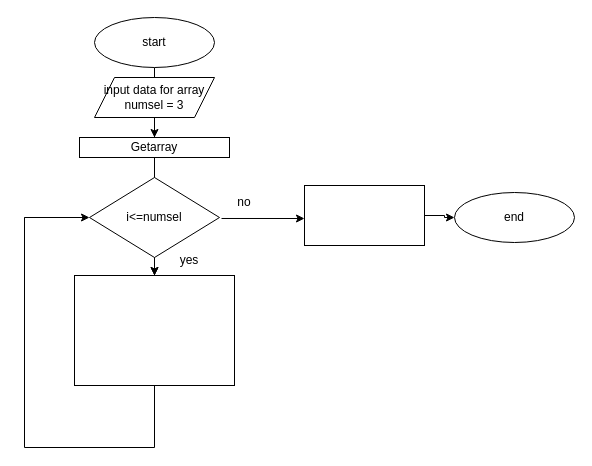
The diagram is 592 pixels wide and 466 high, and some of its shapes have lost their labels. Here are the shapes that lost their labels. From the top down, the centre of each, then its label:
At (x=364, y=215): "print new array".
At (x=154, y=330): "mainwork string t = curr[rand]; curr[rand] = curr[i]; exp[i] = t; i++;".
